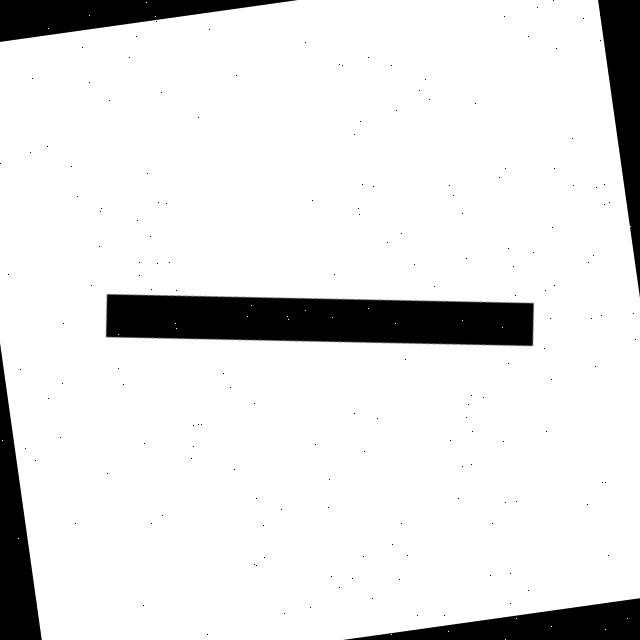line: (106, 294, 534, 346)
